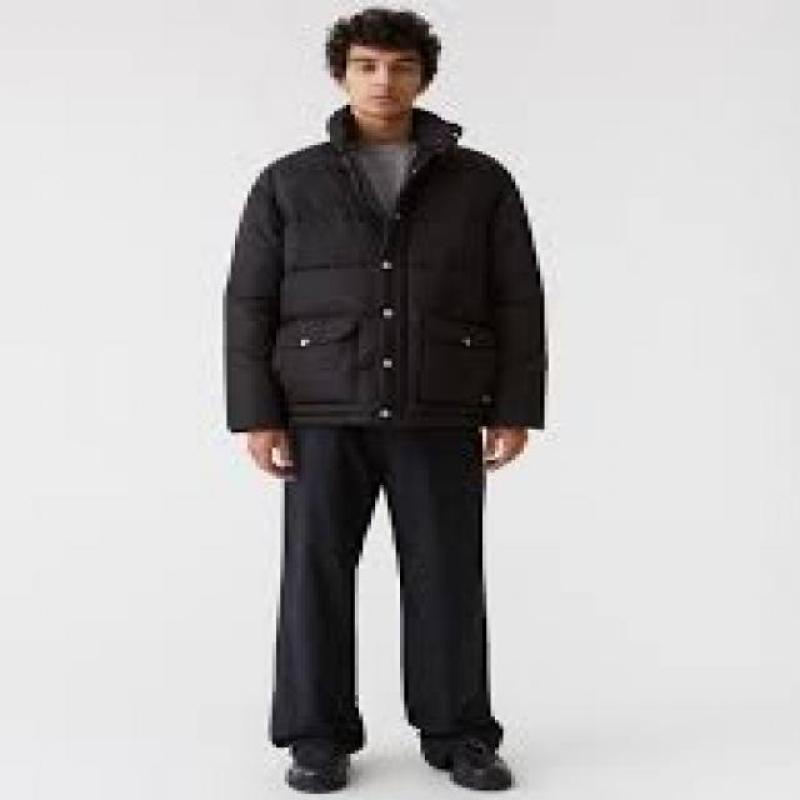coat: (218, 103, 552, 451)
trousers: (268, 415, 514, 763)
